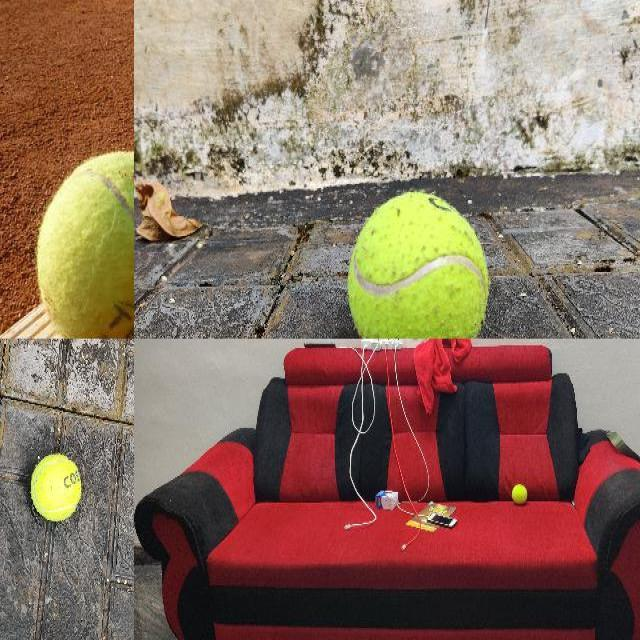tennis-ball: (345, 190, 491, 338), (36, 150, 133, 338), (30, 452, 82, 522), (511, 482, 527, 504)
